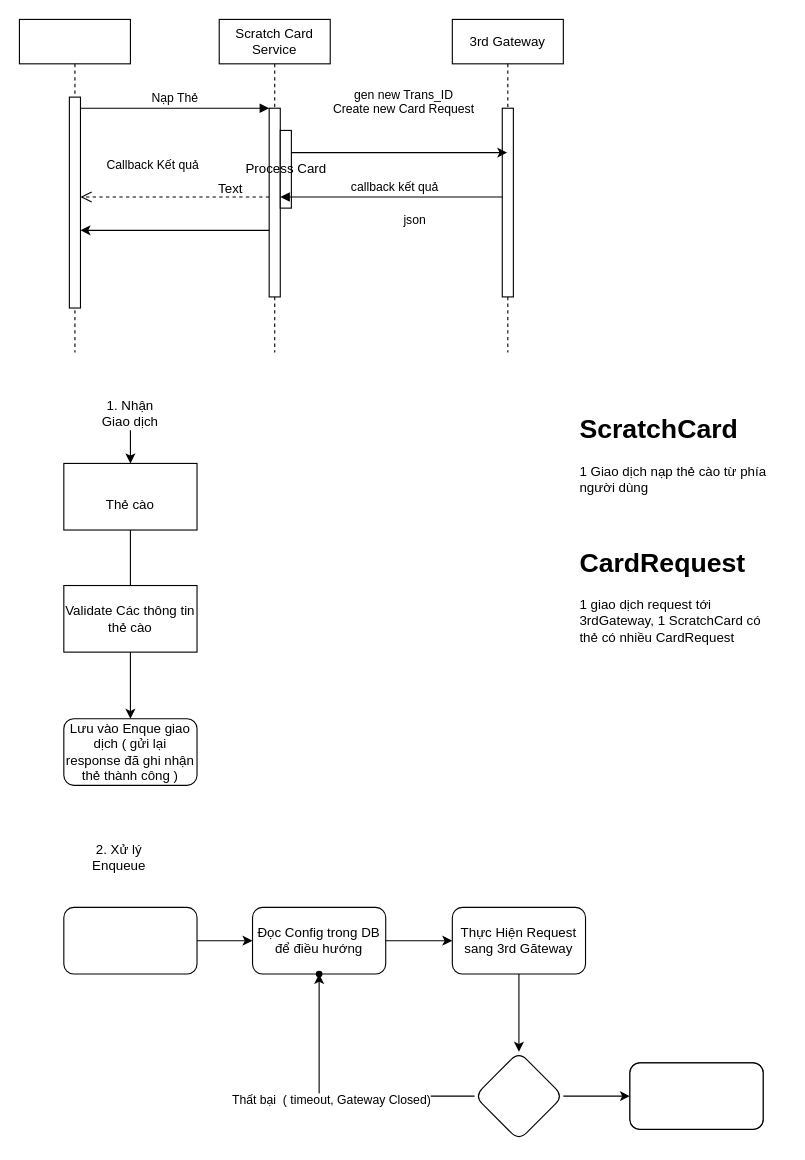
Some shapes in this 805 by 1160 pixel diagram are drawn without their labels. Here are the shapes that lost their labels. From the top down, the box of each, then its label:
(18, 18, 130, 352): User
(63, 906, 197, 974): Lấy ScrachCard trong queue ra ( FIFO)
(473, 1051, 563, 1141): Gọi thành công
(629, 1062, 763, 1129): Lưu CardRequest và Update ScratchCard
